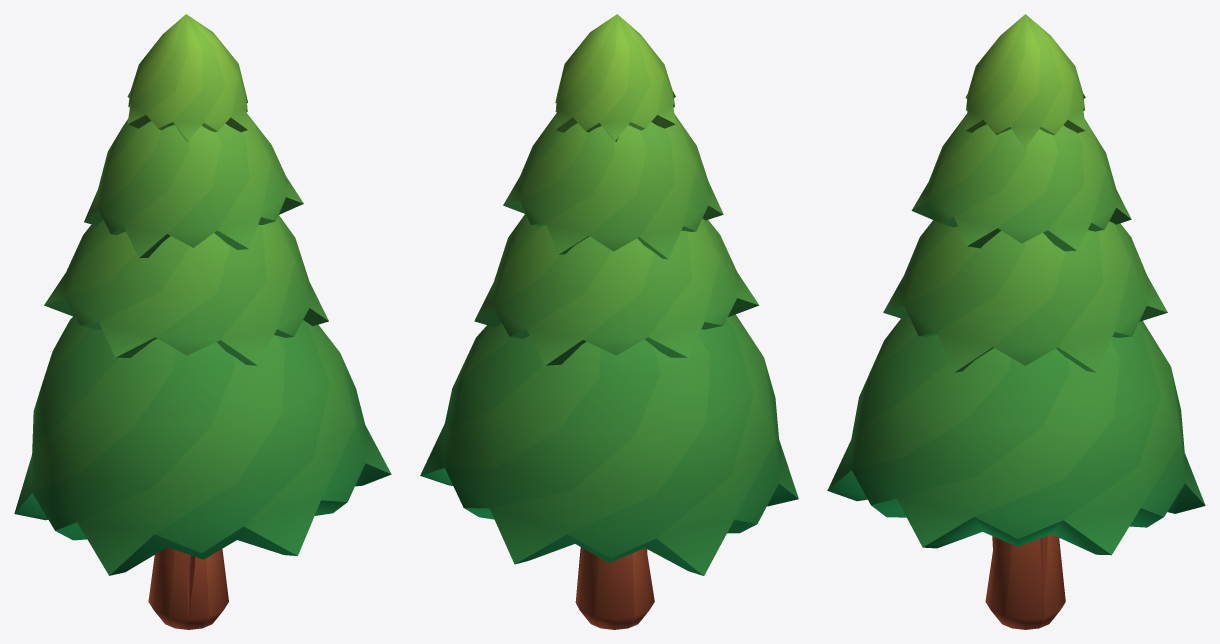
Rendered from Tree_5_C_Color1.gltf.
The picture shows the model from 3 angles, left to right: view 1: azimuth 30°, elevation 25°; view 2: azimuth 150°, elevation 25°; view 3: azimuth 270°, elevation 25°; orthographic projection.
Parts seen in each view (by area): view 1: Tree_5_C_Color1; view 2: Tree_5_C_Color1; view 3: Tree_5_C_Color1.
Boxes of the visible parts, <box> form: Tree_5_C_Color1: <box>14,14,391,629</box>; Tree_5_C_Color1: <box>420,14,798,629</box>; Tree_5_C_Color1: <box>827,14,1205,629</box>.
Size of the model in its own units: 3.69 by 7.39 by 4.14.
1 material, 1 textured.
